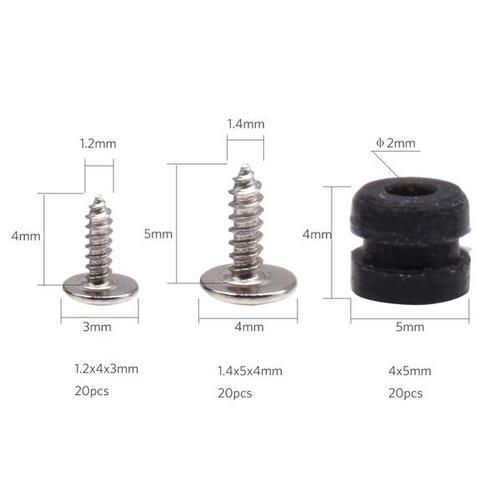Tornillo: (197, 163, 304, 305), (58, 193, 143, 308)
